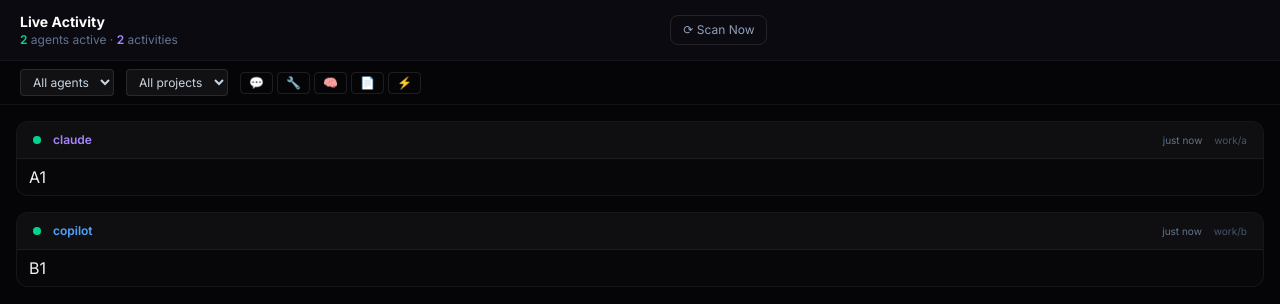
Test: LiveActivityView — filters › filters by agent
Select "copilot" in the 1st dropdown at [67, 82], box 20,69 -> 114,96
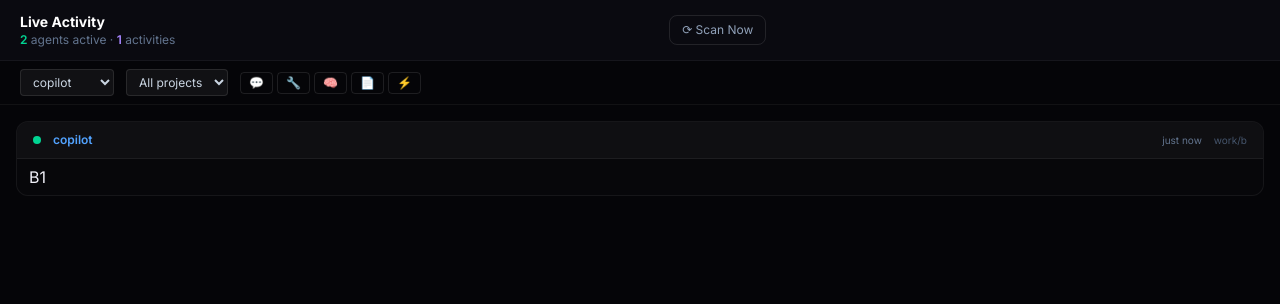
Expected: the text "B1" is shown, 29,167 -> 46,187
Expected: the text "A1" is gone
